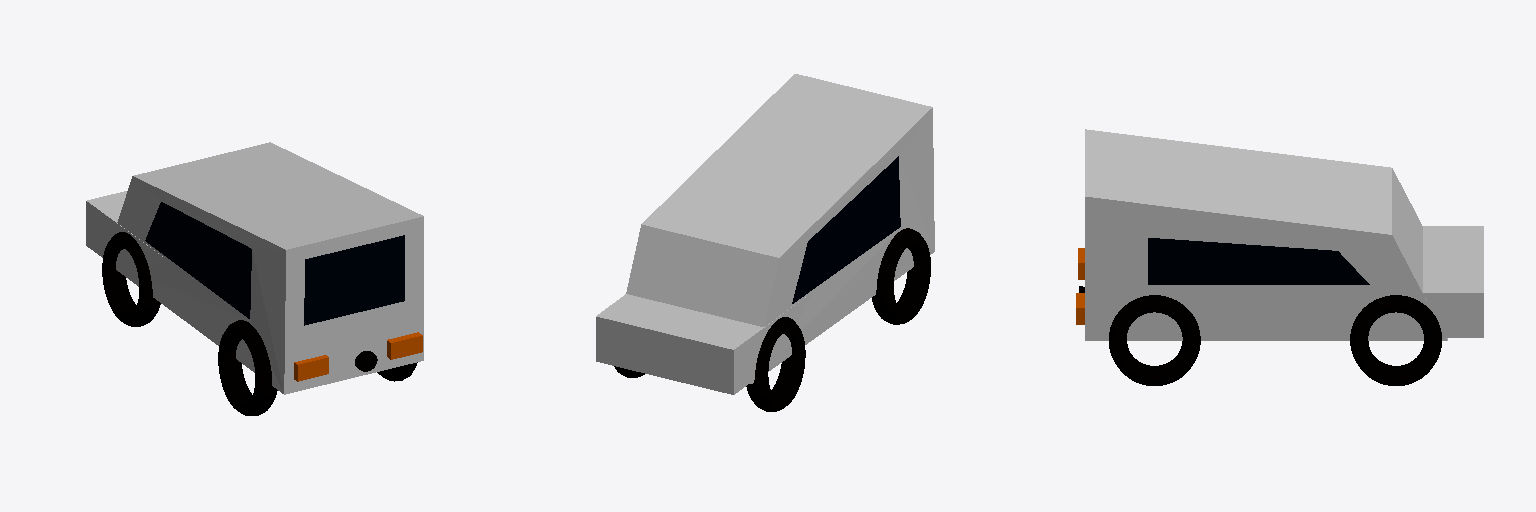
The model's file is van.obj.
3 views of the same model, side by side, from view 1: azimuth 30°, elevation 25°; view 2: azimuth 150°, elevation 25°; view 3: azimuth 270°, elevation 25° (orthographic).
Visible parts, largest first — view 1: Cube_Cube.001, Torus.003, Torus.002, Cube.001_Cube.002, Cube.003_Cube.004, Cube.002_Cube.003; view 2: Cube_Cube.001, Cube.001_Cube.002, Torus.003, Torus.002; view 3: Cube_Cube.001, Cube.001_Cube.002, Torus, Torus.001.
Part boxes in pixels (x1,y1,x2,y2): Cube_Cube.001: (116,142,423,394); Torus.003: (218,320,277,415); Torus.002: (102,232,160,326); Cube.001_Cube.002: (86,191,164,283); Cube.003_Cube.004: (387,332,422,359); Cube.002_Cube.003: (294,355,328,381); Cube_Cube.001: (626,74,934,383); Cube.001_Cube.002: (596,292,812,394); Torus.003: (872,228,930,324); Torus.002: (746,317,805,411); Cube_Cube.001: (1085,129,1447,340); Cube.001_Cube.002: (1423,226,1483,337); Torus: (1109,295,1200,385); Torus.001: (1350,295,1441,385).
Size of the model in its own units: 2.4 by 2.6 by 5.12.